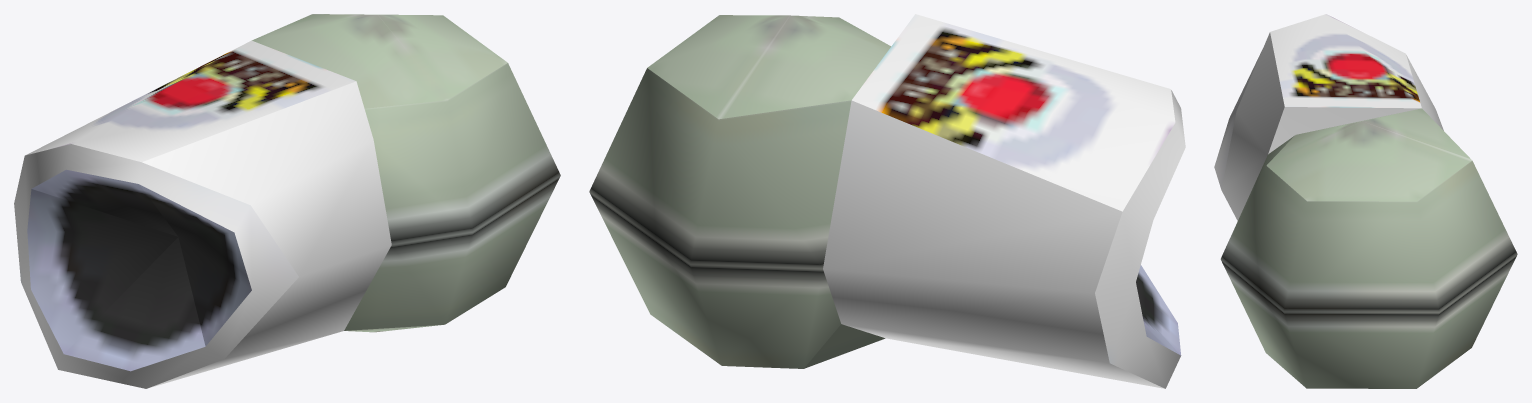
File: buzzlightyRightArm.obj
3 views of the same model, side by side, from view 1: azimuth 30°, elevation 25°; view 2: azimuth 150°, elevation 25°; view 3: azimuth 270°, elevation 25° (orthographic). The views are drawn at different scales.
Visible parts, largest first — view 1: buzzlightyRightArm_buzzlighty.013; view 2: buzzlightyRightArm_buzzlighty.013; view 3: buzzlightyRightArm_buzzlighty.013.
Part boxes in pixels (<box>): buzzlightyRightArm_buzzlighty.013: <box>14,14,560,388</box>; buzzlightyRightArm_buzzlighty.013: <box>589,14,1185,388</box>; buzzlightyRightArm_buzzlighty.013: <box>1214,14,1517,388</box>.
Size of the model in its own units: 0.1718 by 0.1093 by 0.1128.
1 material, 1 textured.
